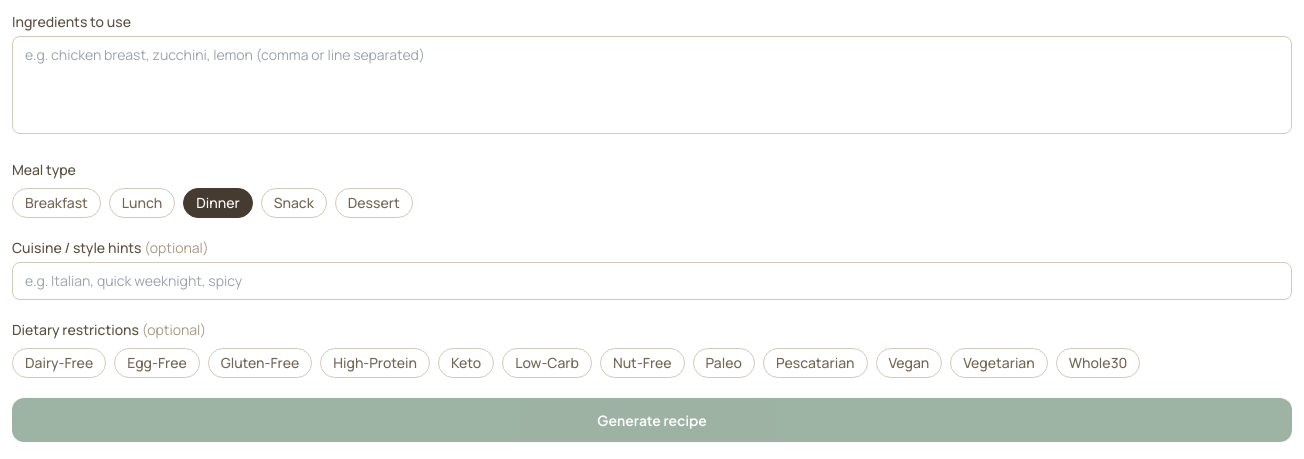
Scenario: T04 - Generate button enabled when specificIngredients is non-empty › becomes enabled when user types in the ingredients textarea
Replace the text in the text box with placeholder "e.g. chicken breast" with "chicken breast" at (652, 85), box [12,36,1292,134]
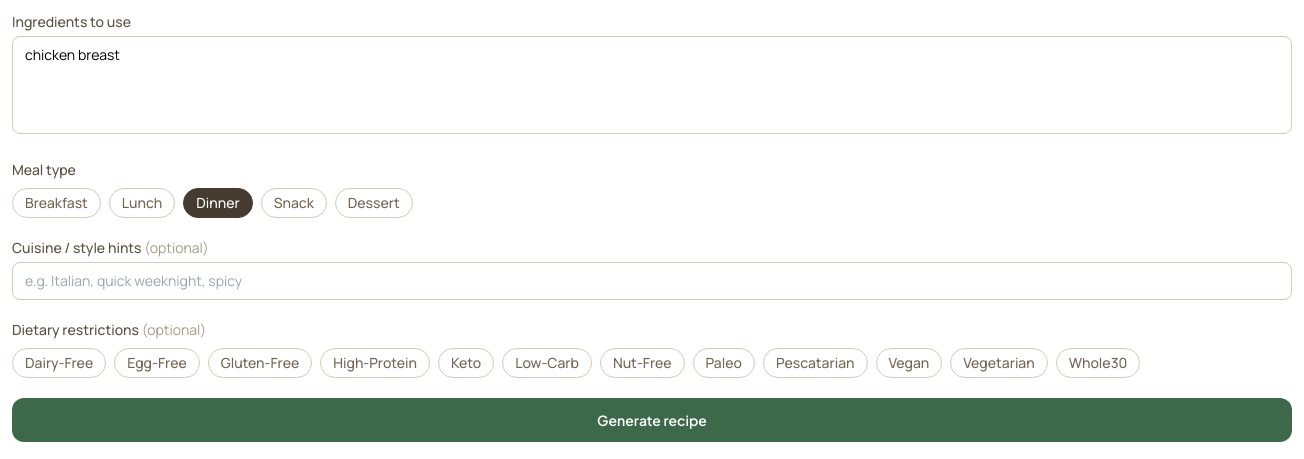
Expected: the button "Generate recipe" is enabled, [12,398,1292,442]
